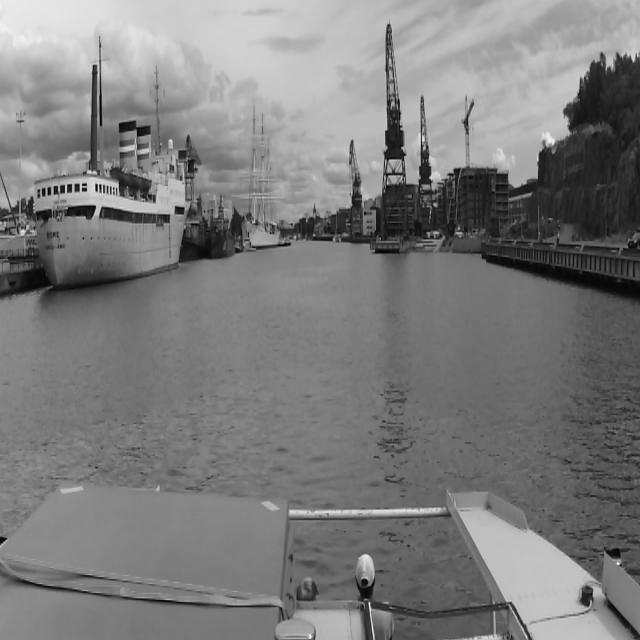ship: (27, 65, 189, 285), (242, 98, 282, 260), (188, 196, 234, 266)
